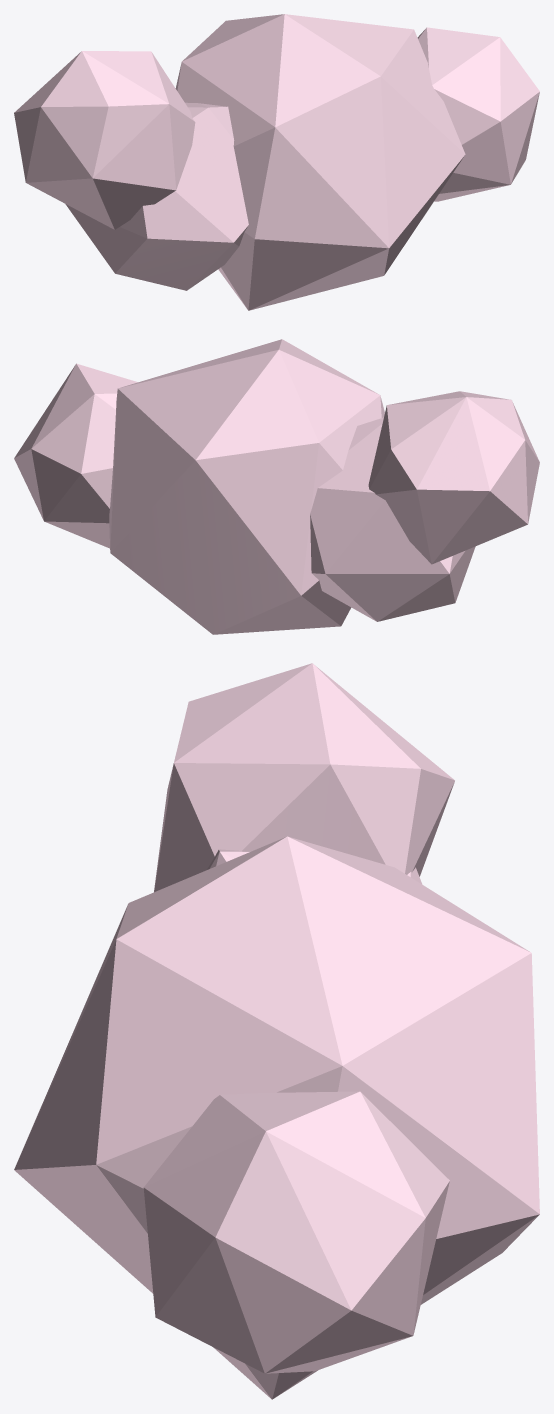
Rendered from cloud_6.fbx.
3 renders of one model, top to bottom at view 1: azimuth 30°, elevation 25°; view 2: azimuth 150°, elevation 25°; view 3: azimuth 270°, elevation 25°, orthographic. The views are drawn at different scales.
Visible parts, largest first — view 1: cloud_6; view 2: cloud_6; view 3: cloud_6.
Part boxes in pixels (x1,y1,x2,y2): cloud_6: [14, 14, 539, 310]; cloud_6: [14, 339, 539, 634]; cloud_6: [14, 663, 539, 1399].
Size of the model in its own units: 645 by 353 by 342.
